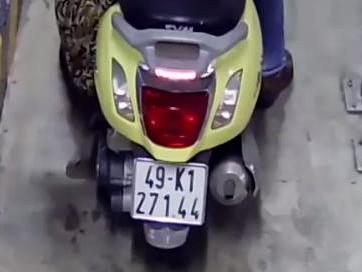num_plate: (131, 156, 209, 229)
